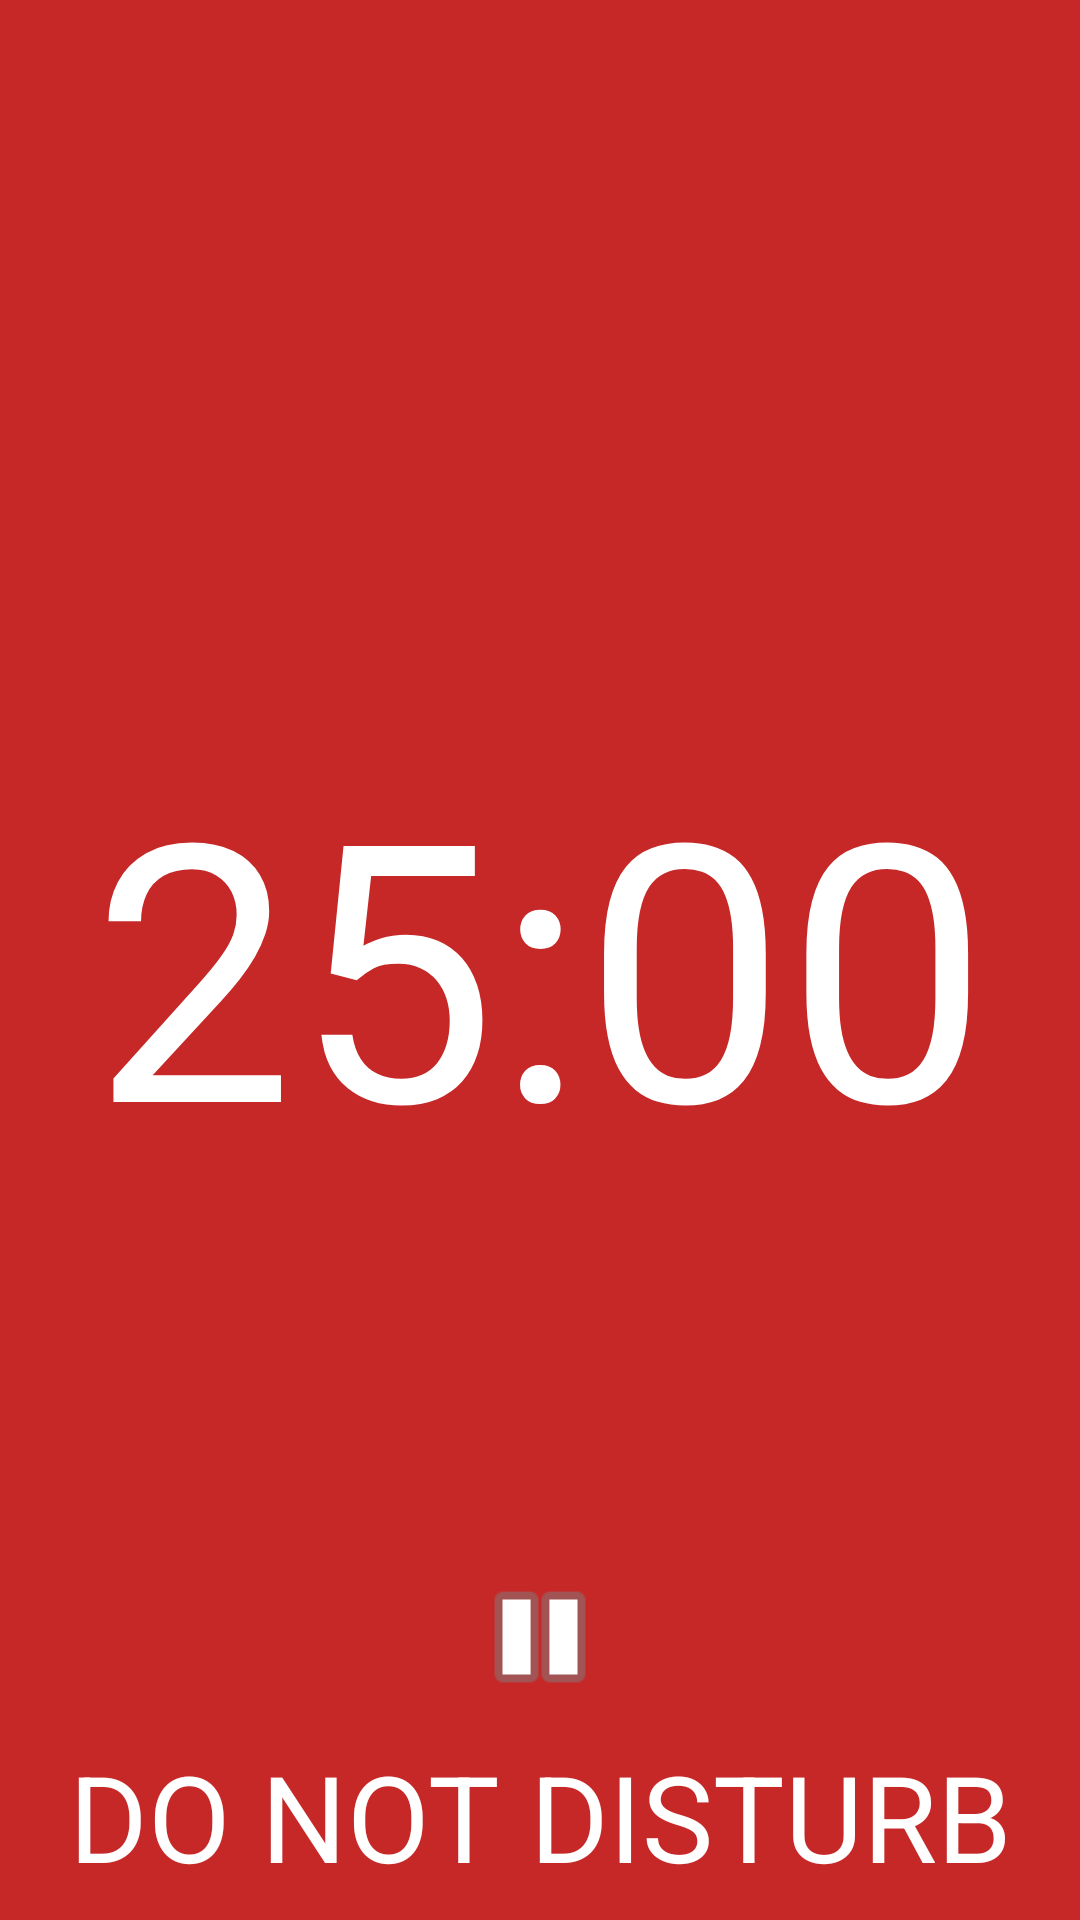

Locate icon controls on the screen. Image size 1080w x 1920h, boxes as (x1, y1, x2, y2).
pause: (495, 1592, 585, 1682)
